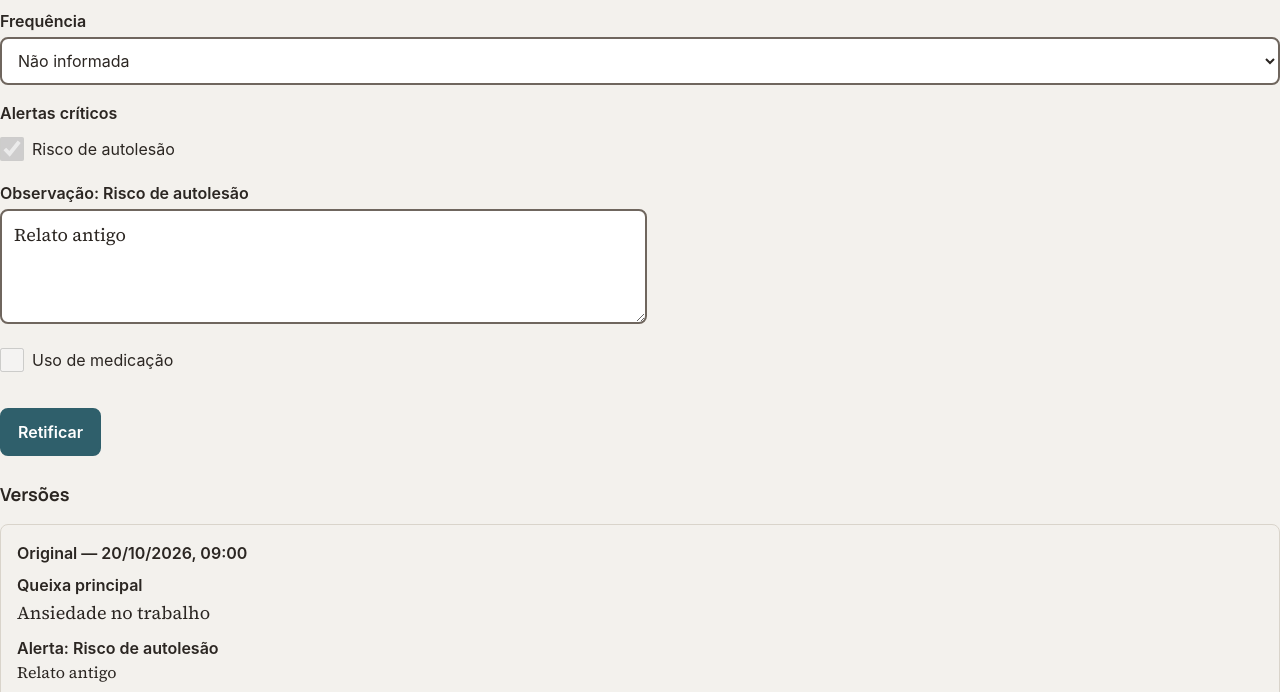
Test case: Retificação (ANA-06, ANA-07, ANA-08) › sem motivo não envia e pede o motivo
(page scrolled)
Click the button "Retificar".
click(50, 432)  # box [0, 408, 101, 456]
(page scrolled)
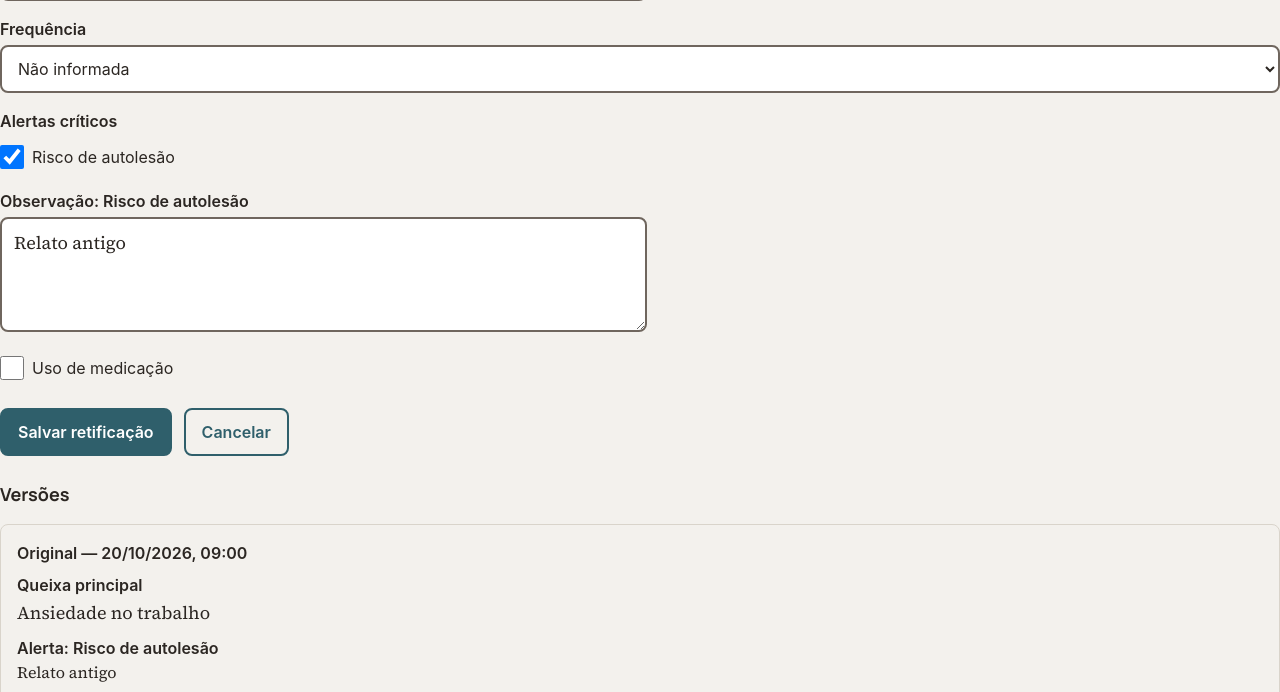
Click the button "Salvar retificação".
click(86, 432)  # box [0, 408, 172, 456]
(page scrolled)
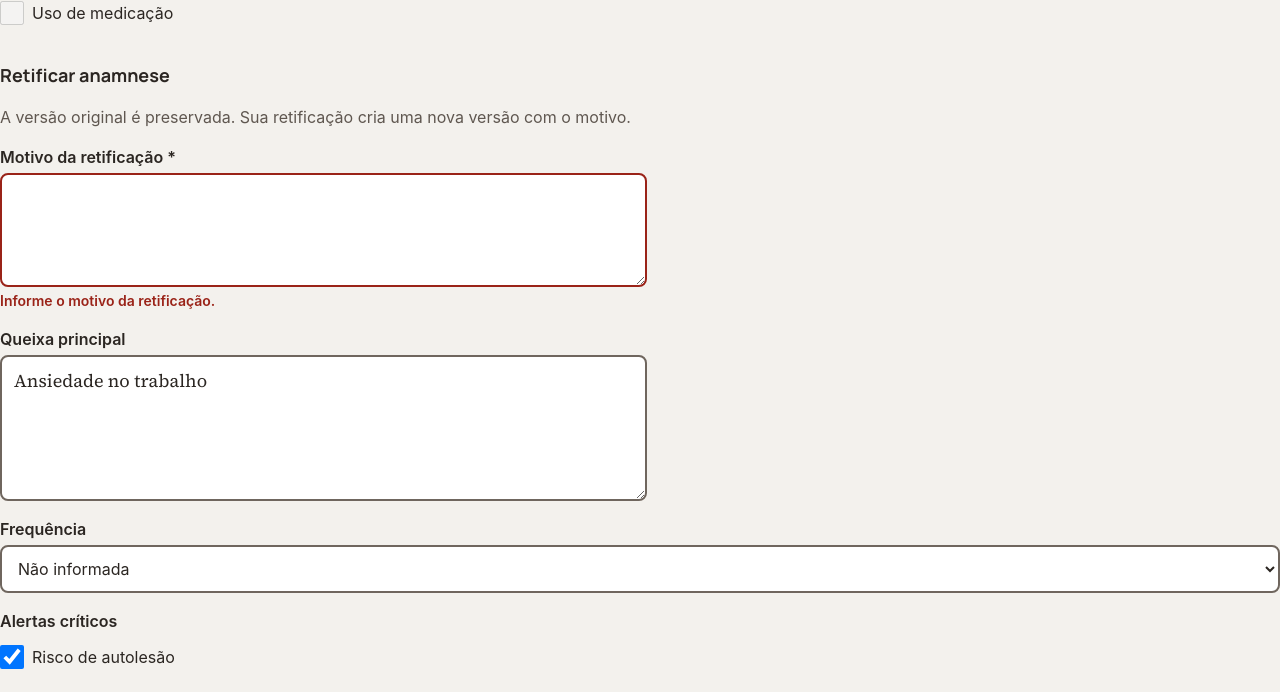
Check: the text "Informe o motivo da retificação." is shown, box [0, 292, 215, 309]
